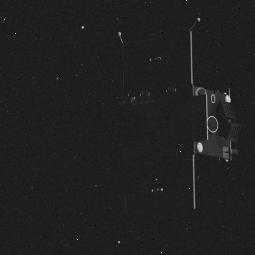proba_2: (95, 32, 239, 223)
